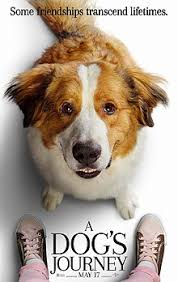dog: (11, 47, 169, 194)
